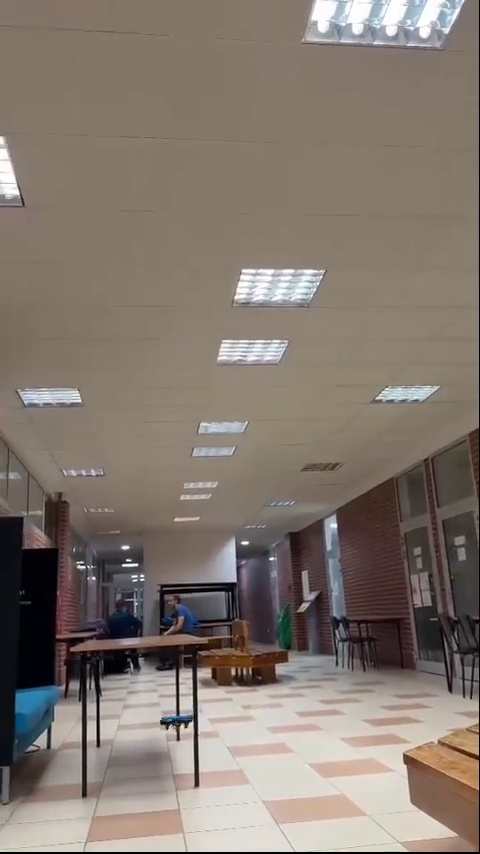drone: (158, 714, 193, 731)
no vest: (106, 597, 148, 641), (162, 595, 199, 634)
